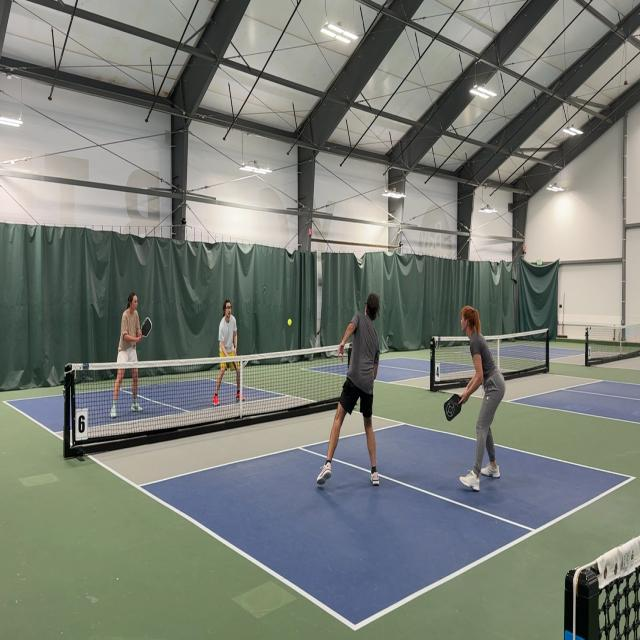ball: (287, 318, 292, 327)
